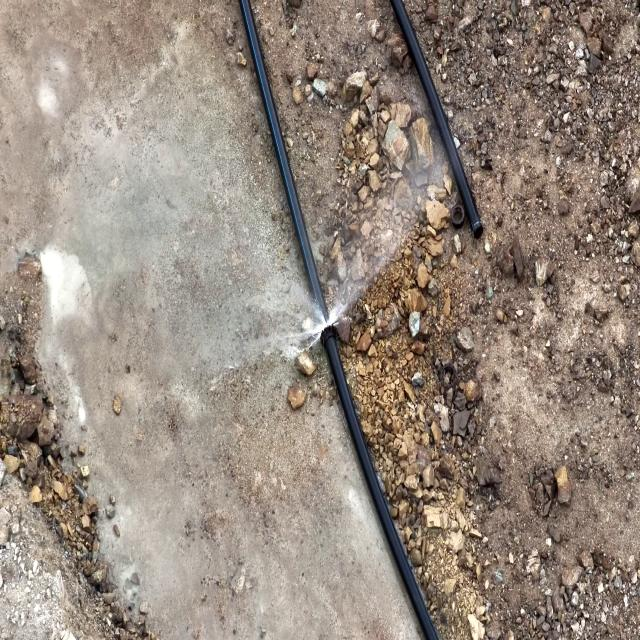leak: (253, 246, 400, 366)
